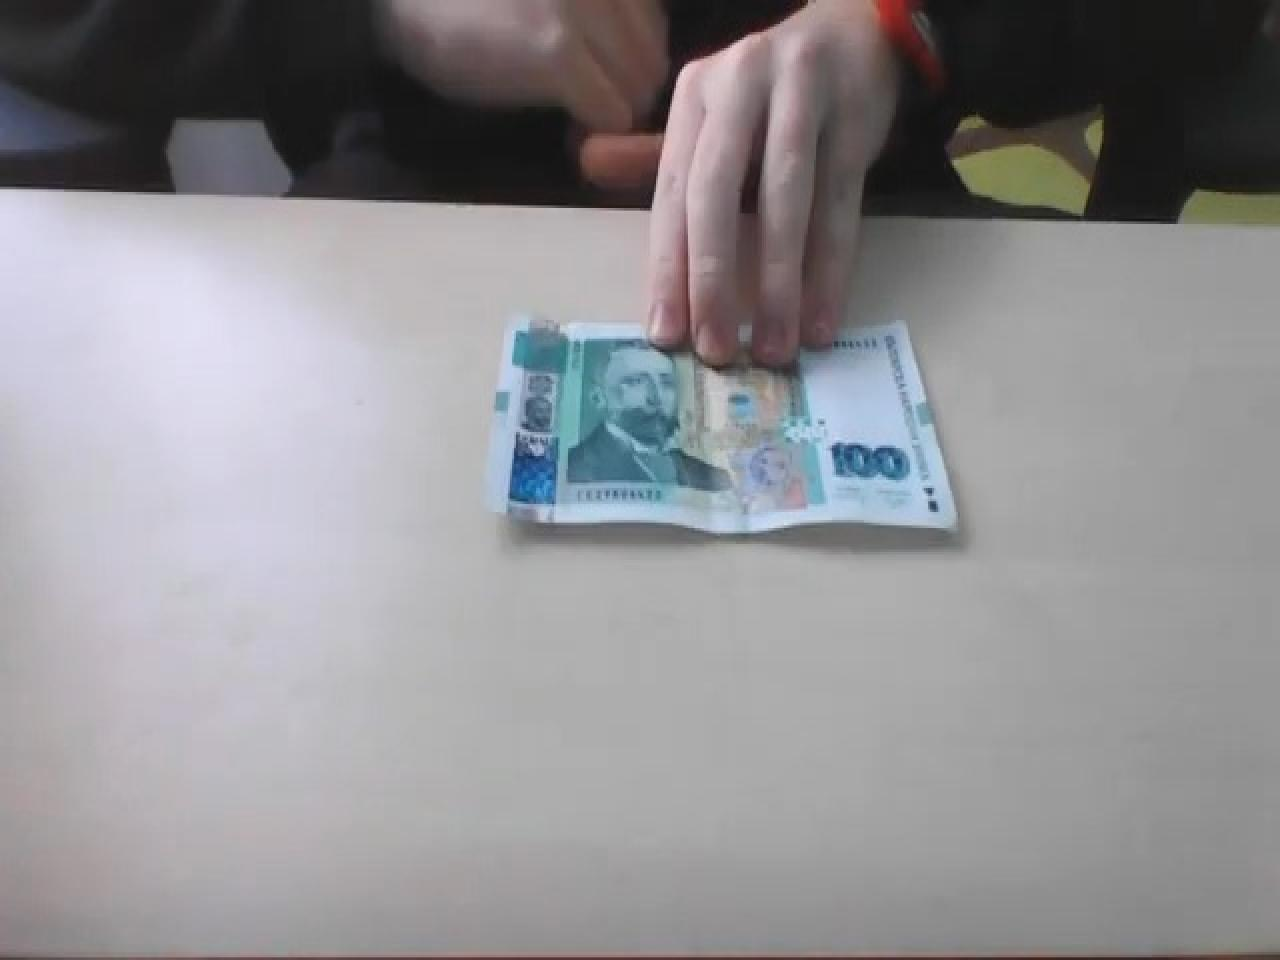100leva: (492, 323, 958, 538)
